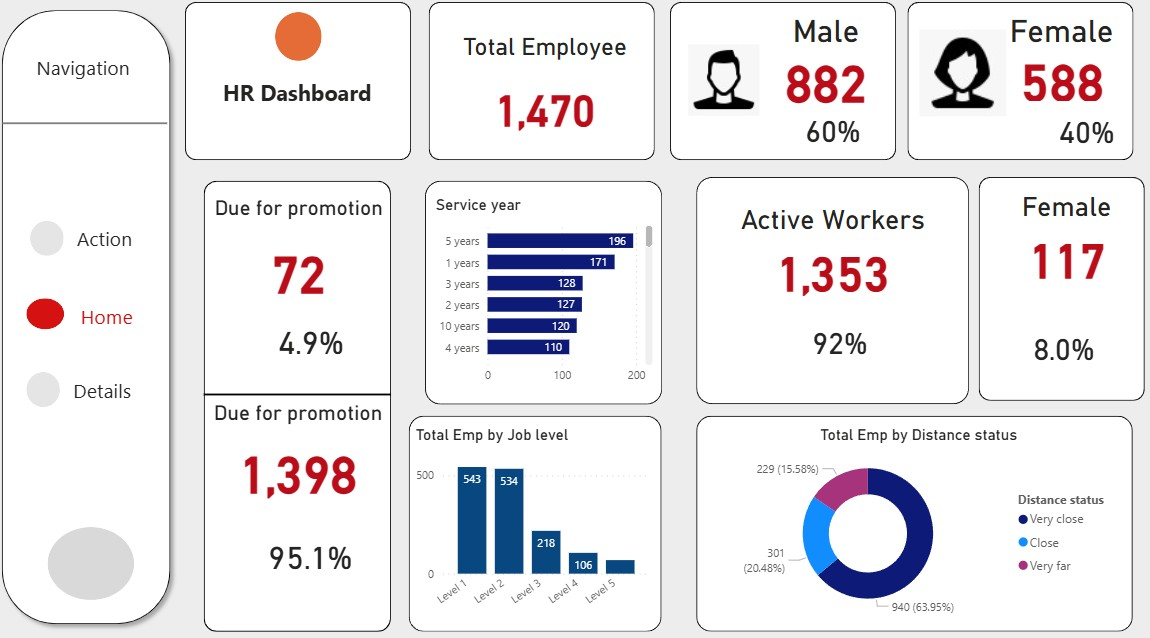

Layout of this report page (visuals, bound fields, positions):
{"tool":"powerbi","page":{"name":"Home","canvas":[1280,720],"ordinal":0},"visuals":[{"type":"shape","box":[220,15.9,248.1,173.6],"z":0},{"type":"shape","box":[317.8,26.9,51.3,53.8],"z":1000},{"type":"shape","box":[482.9,212.7,260.4,245.7],"z":2000},{"type":"barChart","title":" Service year","fields":{"Category":["in.Service year"],"Y":["All Measure.Total Emp"]},"box":[490.2,228.6,248.1,215.1],"z":3000},{"type":"shape","box":[487.7,17.1,248.1,173.6],"z":4000},{"type":"shape","box":[751.8,17.1,248.1,173.6],"z":5000},{"type":"shape","box":[1012.2,17.1,248.1,173.6],"z":6000},{"type":"shape","box":[9.8,15.9,202.9,691.9],"z":7000},{"type":"shape","box":[240.8,212.7,205.4,495.1],"z":8000},{"type":"shape","box":[781.1,209,299.5,249.4],"z":9000},{"type":"shape","box":[1090.4,209,182.1,245.7],"z":10000},{"type":"shape","box":[465.7,470.6,277.5,237.1],"z":11000},{"type":"shape","box":[781.1,470.6,479.2,237.1],"z":12000},{"type":"card","title":"Male","fields":{"Values":["All Measure.Male"]},"box":[854.5,26.9,136.9,105.1],"z":13000},{"type":"card","title":"Male","fields":{"Values":["All Measure.%Male"]},"box":[891.1,128.4,80.7,53.8],"z":14000},{"type":"image","box":[766.5,48.9,88,106.3],"z":15000},{"type":"card","title":"Female","fields":{"Values":["All Measure.Female"]},"box":[1113.6,26.9,135.7,101.5],"z":16000},{"type":"card","fields":{"Values":["All Measure.%on service"]},"box":[876.5,360.6,123.5,56.2],"z":17000},{"type":"image","box":[1020.7,26.9,105.1,133.2],"z":18000},{"type":"card","title":"Total Employee","fields":{"Values":["All Measure.Total Emp"]},"box":[507.3,48.9,213.9,133.2],"z":19000},{"type":"textbox","box":[240.8,94.1,205.4,44],"z":20000},{"type":"card","title":"Due for promotion","fields":{"Values":["All Measure.Due for promotion"]},"box":[247,229.2,194.9,133.1],"z":21000},{"type":"card","fields":{"Values":["All Measure.%due for promotion"]},"box":[286.8,347.2,142.7,81],"z":22000},{"type":"shape","box":[240.1,286.8,205.8,321.1],"z":23000},{"type":"card","title":"Due for promotion","fields":{"Values":["All Measure.Not due"]},"box":[245.6,454.2,196.2,123.5],"z":24000},{"type":"card","fields":{"Values":["All Measure.%Not due"]},"box":[277.5,568.4,160.1,111.2],"z":25000},{"type":"columnChart","fields":{"Y":["All Measure.Total Emp"],"Category":["in.Job level"]},"box":[468.2,481.6,267.7,217.6],"z":26000},{"type":"card","title":"Active Workers","fields":{"Values":["All Measure.On Service"]},"box":[789.7,237.1,283.6,108.8],"z":27000},{"type":"card","title":"Female","fields":{"Values":["All Measure.will be retrinched"]},"box":[1113.6,223.7,146.7,108.8],"z":28000},{"type":"card","fields":{"Values":["All Measure.%will be retr"]},"box":[1119.7,367.9,129.6,56.2],"z":29000},{"type":"donutChart","fields":{"Category":["in.Distance status"],"Y":["All Measure.Total Emp"]},"box":[799.5,481.6,449.8,217.6],"z":30000},{"type":"card","fields":{"Values":["All Measure.%Female"]},"box":[1171.1,132,78.2,51.3],"z":31000},{"type":"actionButton","box":[49.1,257.3,37.2,38.7],"z":32000},{"type":"actionButton","box":[44.6,342,41.6,34.2],"z":33000},{"type":"actionButton","box":[44.6,422.3,37.2,38.7],"z":34000},{"type":"textbox","box":[96.7,257.3,95.2,53.5],"z":35000},{"type":"textbox","box":[99.6,342,80.3,40.1],"z":36000},{"type":"textbox","box":[92.2,422.3,95.2,43.1],"z":37000},{"type":"actionButton","box":[68.4,593.3,95.2,80.3],"z":38000},{"type":"textbox","box":[28.8,68.6,157.8,48],"z":39000},{"type":"shape","box":[19.2,0,181.1,299.1],"z":40000}]}

Visuals, with their boxes on the page's 1280x720 design canvas (x1, y1, x2, y2). These are canvas units, not pixel positions in the 1150x638 screenshot, which may show the page scaled, cropped or inside an application window:
shape: region(220, 16, 468, 190)
shape: region(318, 27, 369, 81)
shape: region(483, 213, 743, 458)
" Service year" barChart: region(490, 229, 738, 444)
shape: region(488, 17, 736, 191)
shape: region(752, 17, 1000, 191)
shape: region(1012, 17, 1260, 191)
shape: region(10, 16, 213, 708)
shape: region(241, 213, 446, 708)
shape: region(781, 209, 1081, 458)
shape: region(1090, 209, 1272, 455)
shape: region(466, 471, 743, 708)
shape: region(781, 471, 1260, 708)
"Male" card: region(854, 27, 991, 132)
"Male" card: region(891, 128, 972, 182)
image: region(766, 49, 854, 155)
"Female" card: region(1114, 27, 1249, 128)
card - All Measure.%on service: region(876, 361, 1000, 417)
image: region(1021, 27, 1126, 160)
"Total Employee" card: region(507, 49, 721, 182)
textbox: region(241, 94, 446, 138)
"Due for promotion" card: region(247, 229, 442, 362)
card - All Measure.%due for promotion: region(287, 347, 430, 428)
shape: region(240, 287, 446, 608)
"Due for promotion" card: region(246, 454, 442, 578)
card - All Measure.%Not due: region(278, 568, 438, 680)
columnChart - All Measure.Total Emp x in.Job level: region(468, 482, 736, 699)
"Active Workers" card: region(790, 237, 1073, 346)
"Female" card: region(1114, 224, 1260, 332)
card - All Measure.%will be retr: region(1120, 368, 1249, 424)
donutChart - in.Distance status x All Measure.Total Emp: region(800, 482, 1249, 699)
card - All Measure.%Female: region(1171, 132, 1249, 183)
actionButton: region(49, 257, 86, 296)
actionButton: region(45, 342, 86, 376)
actionButton: region(45, 422, 82, 461)
textbox: region(97, 257, 192, 311)
textbox: region(100, 342, 180, 382)
textbox: region(92, 422, 187, 465)
actionButton: region(68, 593, 164, 674)
textbox: region(29, 69, 187, 117)
shape: region(19, 0, 200, 299)
